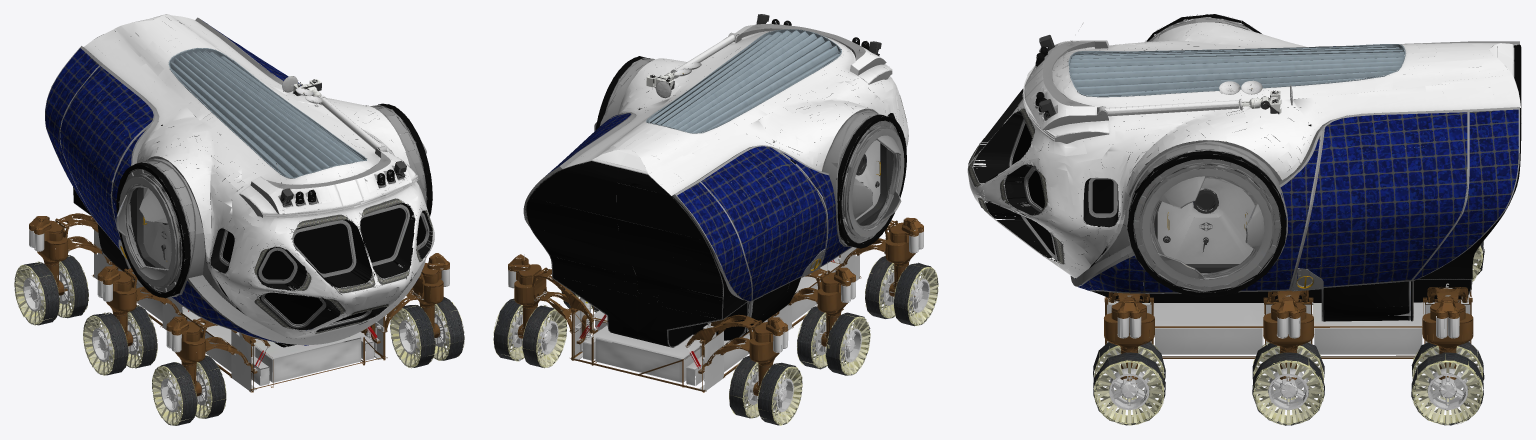
File: sev.glb
3 views of the same model, side by side, from view 1: azimuth 30°, elevation 25°; view 2: azimuth 150°, elevation 25°; view 3: azimuth 270°, elevation 25° (orthographic). The views are drawn at different scales.
Parts seen in each view (by area): view 1: MMSEV; view 2: MMSEV; view 3: MMSEV.
Boxes of the visible parts, x1,y1,x2,y2 form: MMSEV: (14,14,464,425); MMSEV: (493,14,938,425); MMSEV: (967,14,1521,425).
Bounding box in the file's own units: 4.04 × 3.5 × 5.92.
1 material, 1 textured.
